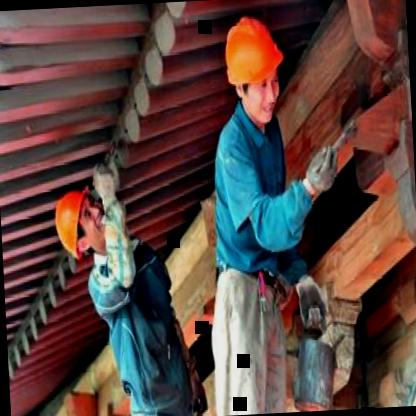helmet: (216, 5, 288, 130), (51, 177, 109, 261)
